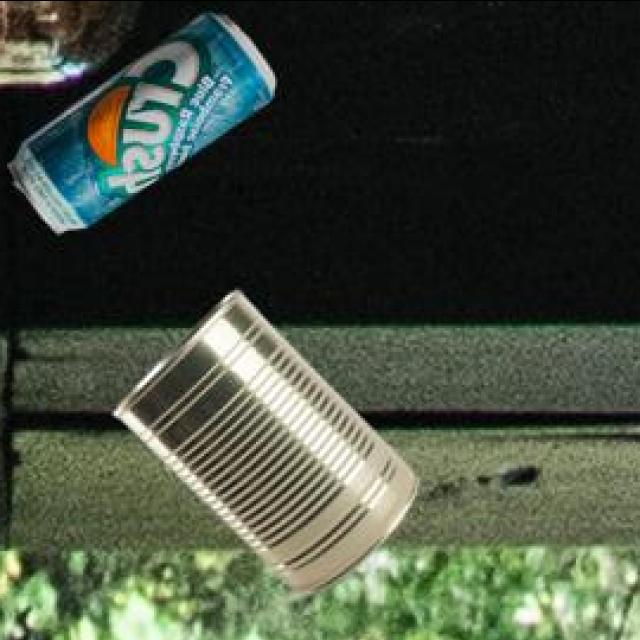logam: (117, 295, 423, 599), (13, 15, 279, 236)
